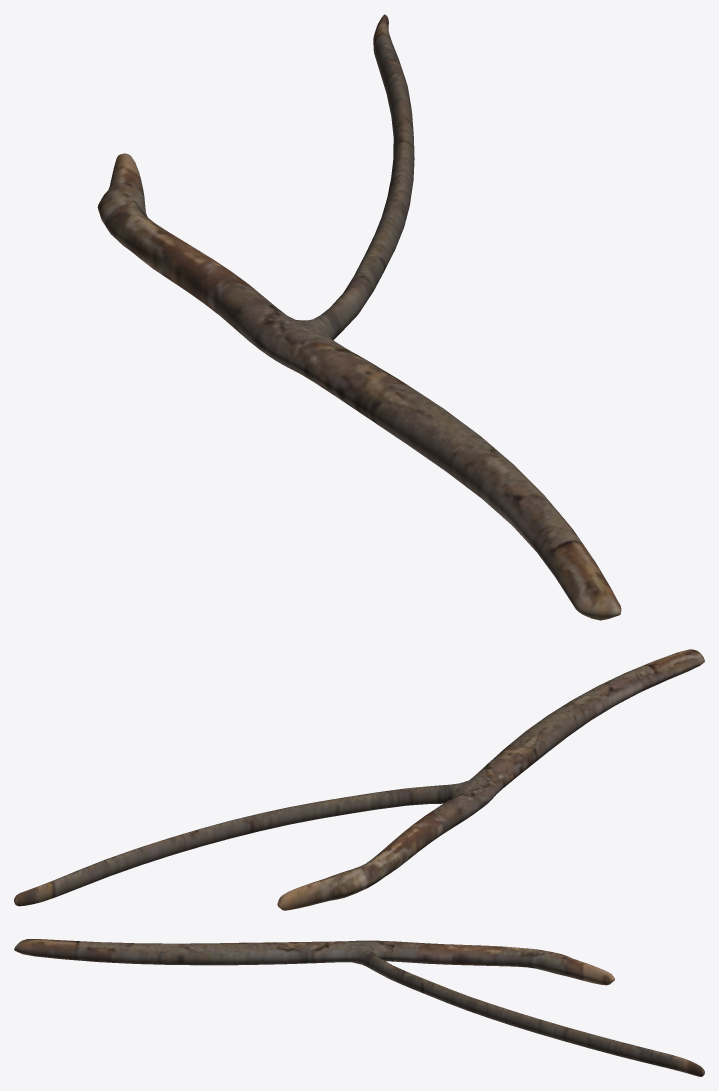
The model's file is stick2.glb.
3 renders of one model, top to bottom at view 1: azimuth 30°, elevation 25°; view 2: azimuth 150°, elevation 25°; view 3: azimuth 270°, elevation 25°, orthographic. The views are drawn at different scales.
Visible parts, largest first — view 1: Debris and twigs; view 2: Debris and twigs; view 3: Debris and twigs.
Part boxes in pixels (x1=…): Debris and twigs: x1=97, y1=14, x2=621, y2=620; Debris and twigs: x1=14, y1=649, x2=704, y2=910; Debris and twigs: x1=14, y1=939, x2=704, y2=1076.
Bounding box in the file's own units: 0.1517 × 0.019 × 0.3738.
Materials: 1 (1 with a texture image).
